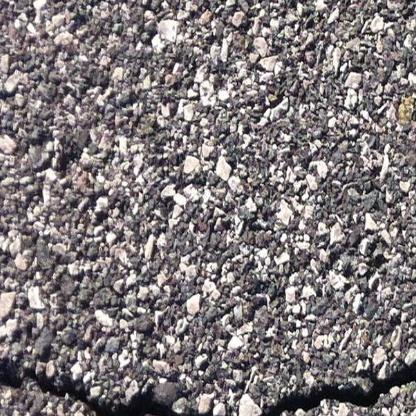Cracks: (0, 355, 416, 416)
